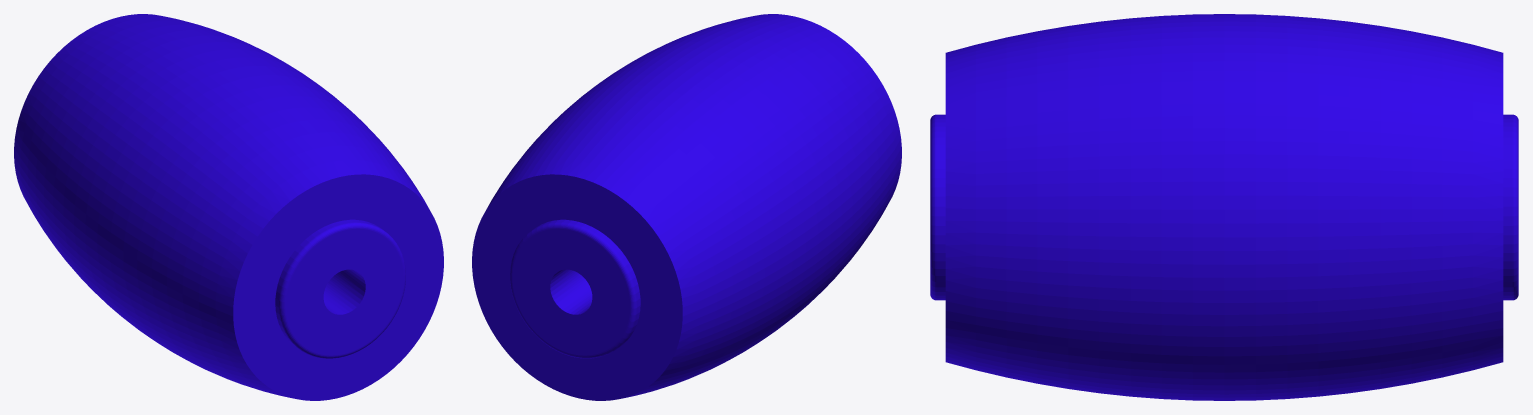
Rendered from omni_roller.dae.
3 views of the same model, side by side, from view 1: azimuth 30°, elevation 25°; view 2: azimuth 150°, elevation 25°; view 3: azimuth 270°, elevation 25° (orthographic). The views are drawn at different scales.
Visible parts, largest first — view 1: Omni Roller For Dae; view 2: Omni Roller For Dae; view 3: Omni Roller For Dae.
Part boxes in pixels (x1,y1,x2,y2): Omni Roller For Dae: (14,14,443,400); Omni Roller For Dae: (472,14,901,400); Omni Roller For Dae: (930,14,1518,400).
Size of the model in its own units: 0.0125 by 0.019 by 0.0125.
